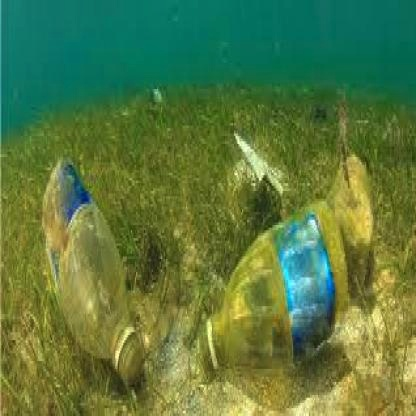pbottle: (188, 186, 354, 384), (30, 152, 161, 392)
